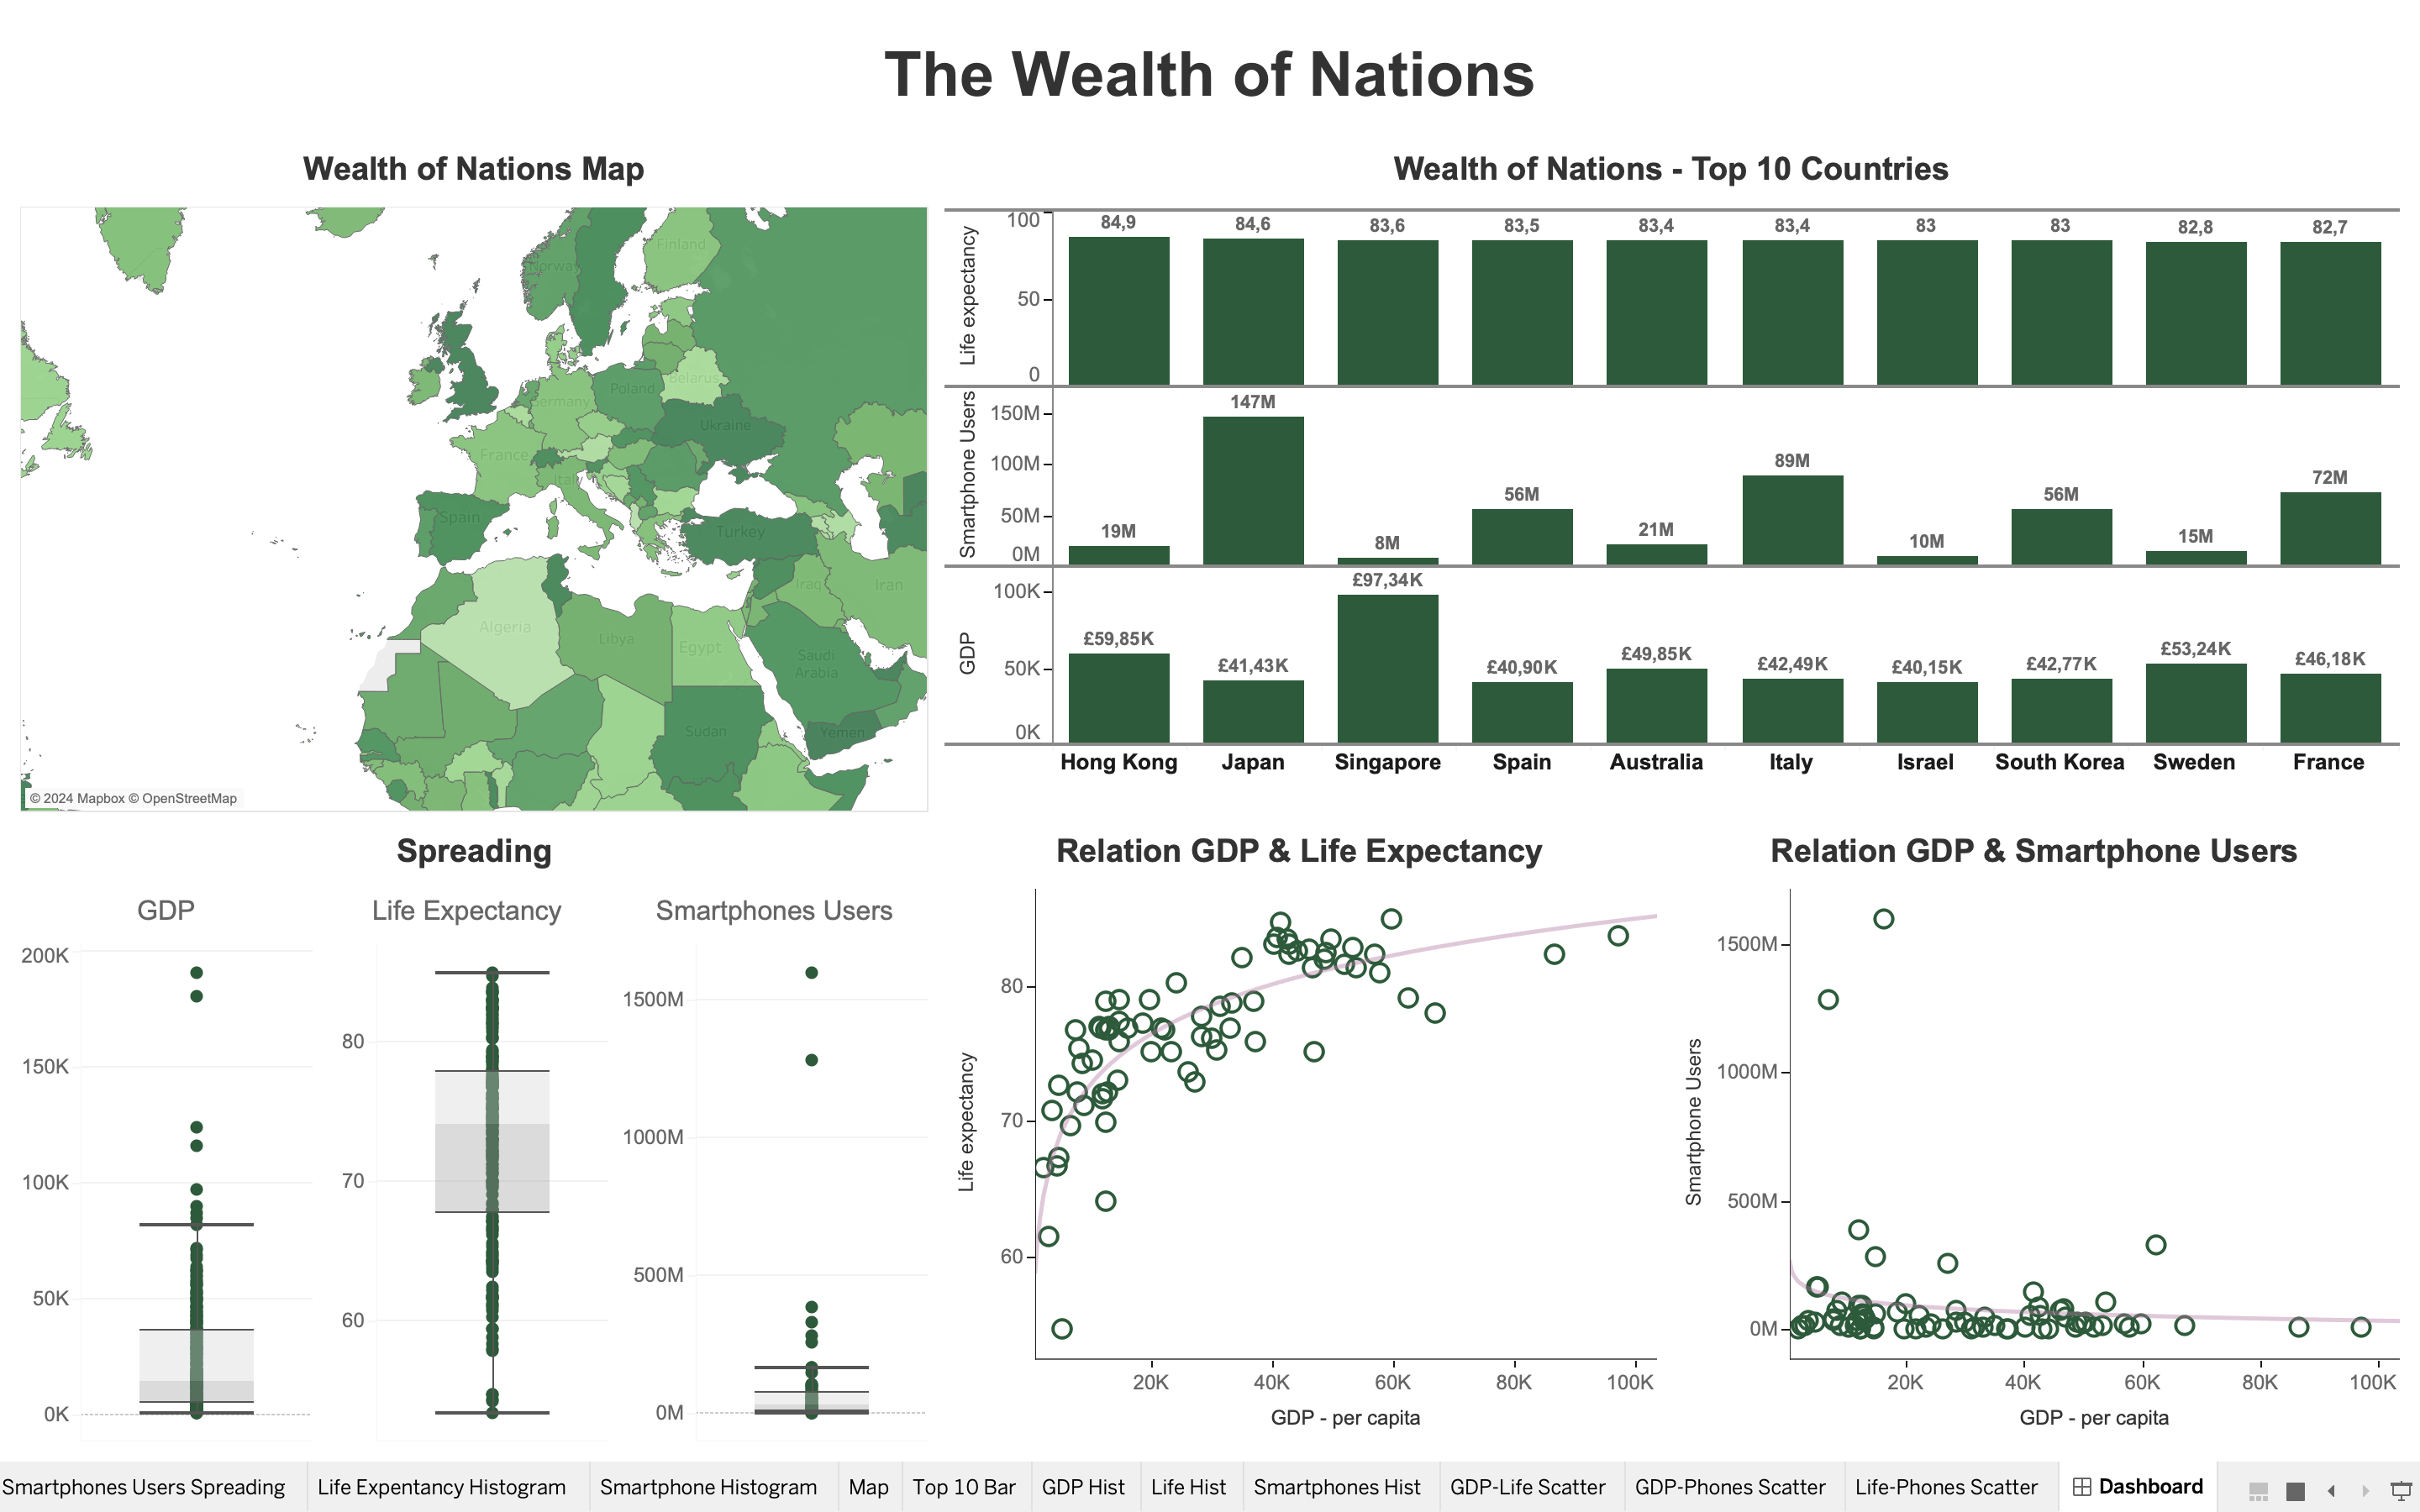

What the dashboard file says about the page in this screenshot:
{"tool":"tableau","page":{"name":"Dashboard","canvas":[1000,1000],"units":"permille","ordinal":0},"visuals":[{"type":"title","box":[5.7,10.6,988.7,98]},{"type":"worksheet","title":"Map","mark":"Multipolygon","box":[5.7,108.6,381,458.2]},{"type":"worksheet","title":"Top 10 Bar","mark":"Automatic","rows":["Life expectancy at birth","Smartphone Users","GDP - per capita (PPP)"],"cols":["Country (GDP)"],"box":[386.7,108.6,607.7,458.2]},{"type":"text","box":[5.7,566.9,381,42.3]},{"type":"worksheet","title":"GDP-Life Scatter","mark":"Automatic","rows":["Life expectancy at birth"],"cols":["GDP - per capita (PPP)"],"box":[386.7,566.9,300.7,422.5]},{"type":"worksheet","title":"GDP-Phones Scatter","mark":"Automatic","rows":["Smartphone Users"],"cols":["GDP - per capita (PPP)"],"box":[687.3,566.9,307,422.5]},{"type":"worksheet","title":"GDP Spreading","mark":"Circle","rows":["GDP - per capita (PPP)"],"box":[5.7,609.2,126.5,380.2]},{"type":"worksheet","title":"Life Expentancy Spreading","mark":"Circle","rows":["Life expectancy at birth"],"box":[132.2,609.2,122.3,380.2]},{"type":"worksheet","title":"Smartphones Users Spreading","mark":"Circle","rows":["Smartphone Users"],"box":[254.5,609.2,132.2,380.2]}]}

Visuals, with their boxes on the dashboard's canvas, which has no fixed pixel size, in thousandths of its width and height (x1, y1, x2, y2). These are canvas units, not pixel positions in the 2420x1512 screenshot, which may show the page scaled, cropped or inside an application window:
title: region(6, 11, 994, 109)
"Map" worksheet (Multipolygon marks): region(6, 109, 387, 567)
"Top 10 Bar" worksheet: region(387, 109, 994, 567)
text: region(6, 567, 387, 609)
"GDP-Life Scatter" worksheet: region(387, 567, 687, 989)
"GDP-Phones Scatter" worksheet: region(687, 567, 994, 989)
"GDP Spreading" worksheet (Circle marks): region(6, 609, 132, 989)
"Life Expentancy Spreading" worksheet (Circle marks): region(132, 609, 254, 989)
"Smartphones Users Spreading" worksheet (Circle marks): region(254, 609, 387, 989)
